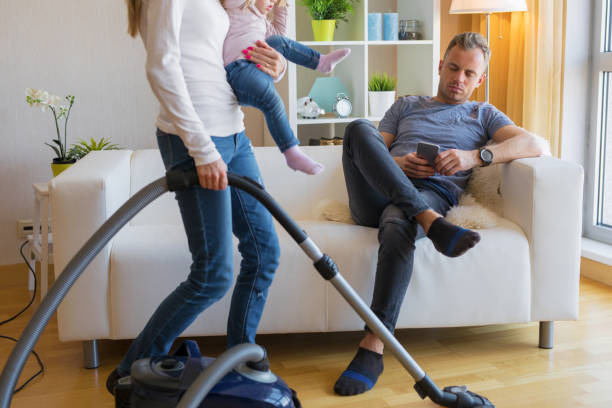without mask: (438, 35, 486, 109), (234, 1, 281, 19)
